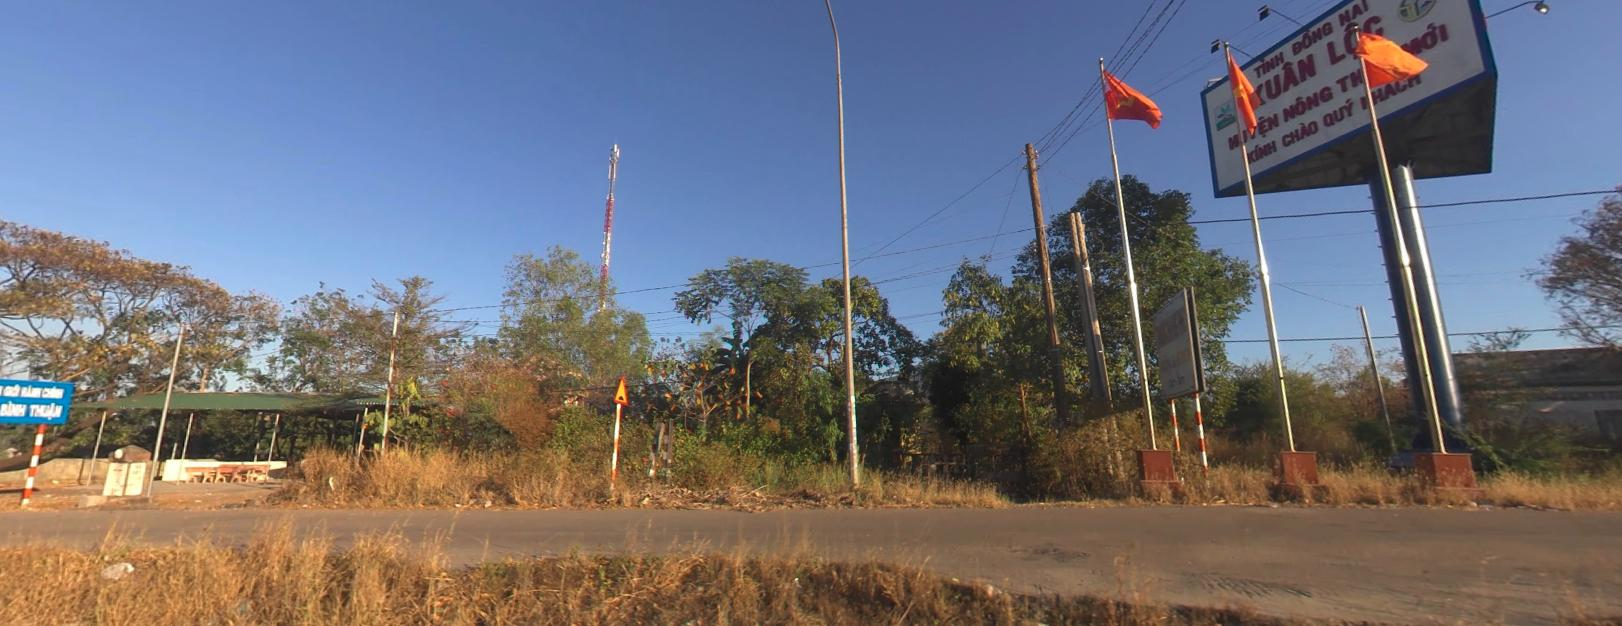Nguy hiem: (612, 374, 630, 404)
